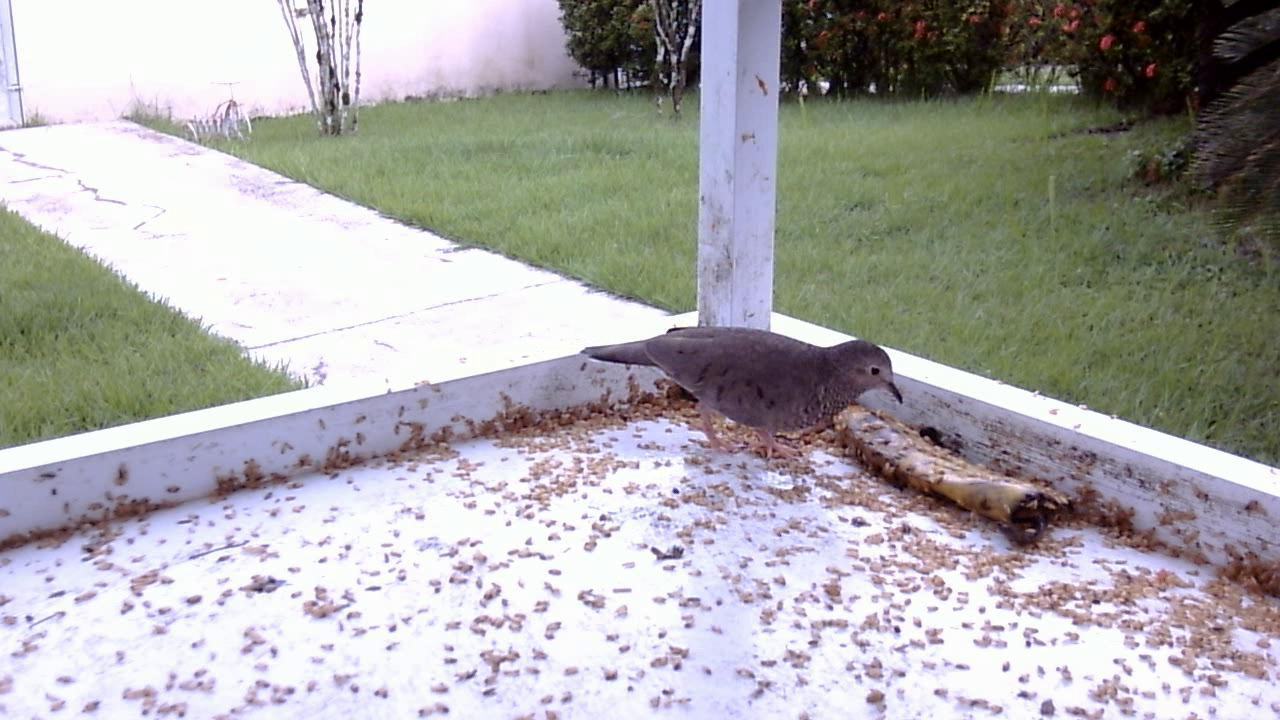rolinha: (575, 319, 901, 463)
